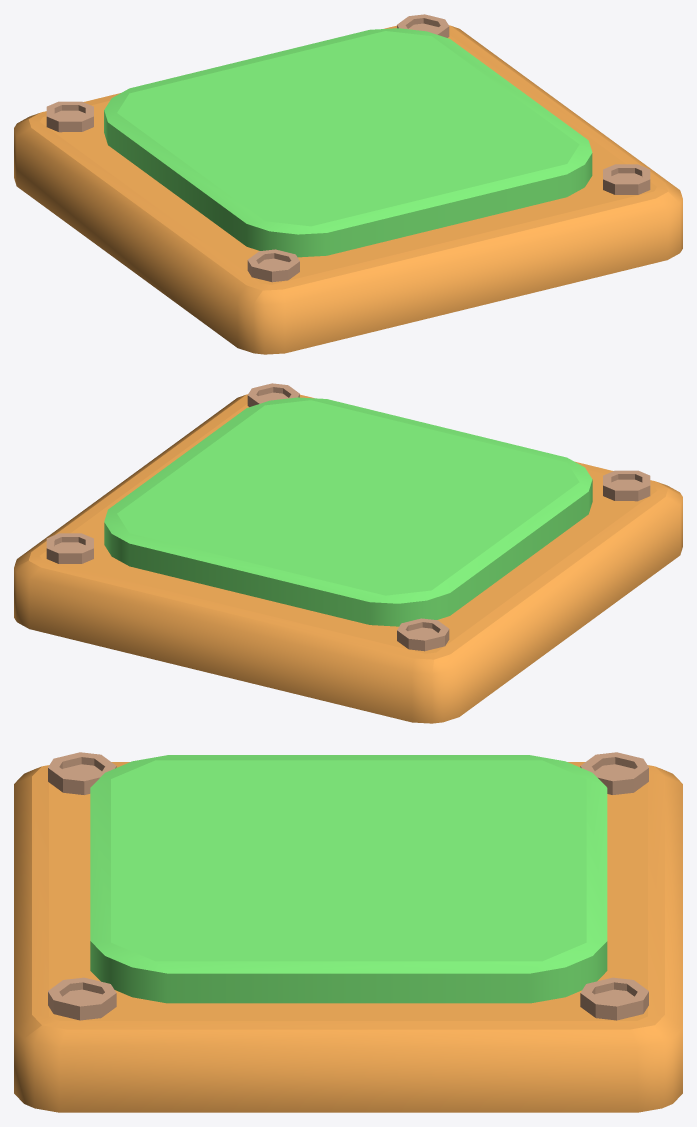
The model's file is Base boton.glb.
3 views of the same model, one above another, from view 1: azimuth 30°, elevation 25°; view 2: azimuth 150°, elevation 25°; view 3: azimuth 270°, elevation 25° (orthographic). The views are drawn at different scales.
Parts seen in each view (by area): view 1: Cubo.018, Cubo.017, Cubo.019; view 2: Cubo.018, Cubo.017, Cubo.019; view 3: Cubo.018, Cubo.017, Cubo.019.
Part boxes in pixels (left/top/right/bottom): Cubo.018: left=104, top=28, right=592, bottom=257; Cubo.017: left=14, top=25, right=682, bottom=354; Cubo.019: left=46, top=14, right=650, bottom=282; Cubo.018: left=104, top=397, right=592, bottom=626; Cubo.017: left=14, top=394, right=682, bottom=723; Cubo.019: left=46, top=383, right=650, bottom=651; Cubo.018: left=90, top=755, right=607, bottom=1003; Cubo.017: left=14, top=762, right=682, bottom=1112; Cubo.019: left=48, top=752, right=648, bottom=1020.
Bounding box in the file's own units: 3.66 × 0.6772 × 3.66.
